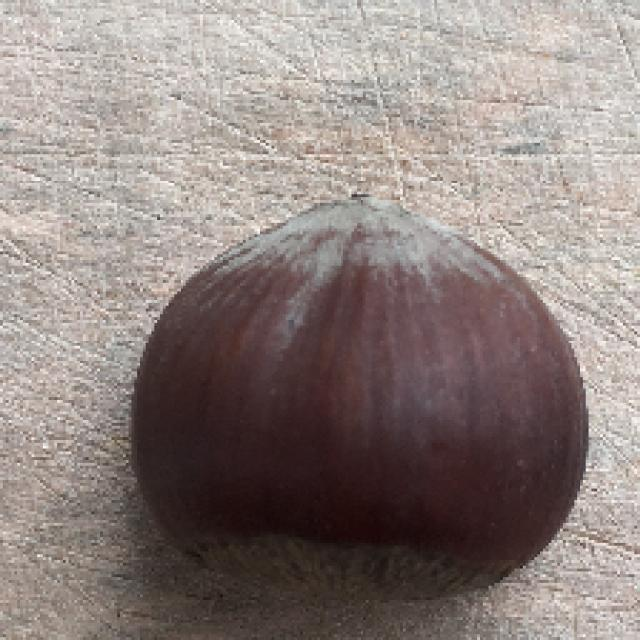damagedHazelnut: (139, 180, 586, 598)
